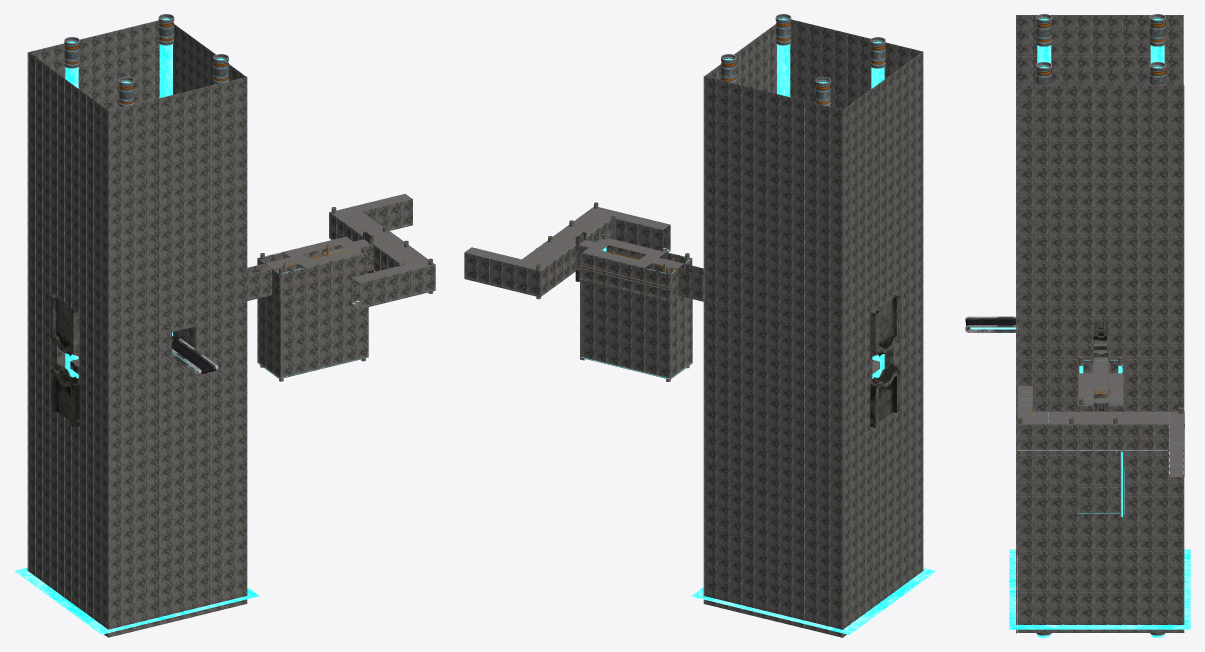
Rendered from Fabrica.fbx.
3 views of the same model, side by side, from view 1: azimuth 30°, elevation 25°; view 2: azimuth 150°, elevation 25°; view 3: azimuth 270°, elevation 25° (orthographic). The views are drawn at different scales.
Parts seen in each view (by area): view 1: pared.023, pared.022, pared.024, pared.009, techo, pared.025, pared.016, pared.007, pared.018, suelo.006, porton bajo.003, porton alto.003 (+4 smaller); view 2: pared.024, pared.022, pared.015, pared.023, techo, pared.025, pared.008, pared.006, pared.018, suelo.006, porton bajo.003, porton alto.003 (+3 smaller); view 3: pared.025, pared.022, techo, pared.003, pared.017, suelo.006, cinta.001, pared.023, pared.024, detalle tuberia.062, detalle tuberia.069, detalle tuberia.048 (+2 smaller).
Part boxes in pixels (x1,y1,x2,y2): pared.023: [108, 77, 247, 637]; pared.022: [28, 52, 108, 637]; pared.024: [27, 20, 159, 571]; pared.009: [280, 282, 368, 378]; techo: [266, 194, 434, 282]; pared.025: [173, 24, 246, 348]; pared.016: [279, 252, 368, 299]; pared.007: [359, 264, 435, 308]; pared.018: [258, 295, 280, 379]; suelo.006: [15, 568, 259, 634]; porton bajo.003: [50, 363, 79, 427]; porton alto.003: [50, 294, 79, 357]; pared.024: [704, 76, 842, 637]; pared.022: [842, 51, 923, 637]; pared.015: [581, 280, 670, 379]; pared.023: [790, 19, 922, 570]; techo: [464, 207, 683, 270]; pared.025: [703, 24, 776, 603]; pared.008: [581, 253, 670, 300]; pared.006: [464, 252, 539, 296]; pared.018: [670, 295, 692, 378]; suelo.006: [691, 568, 936, 634]; porton bajo.003: [870, 364, 899, 427]; porton alto.003: [870, 295, 899, 358]; pared.025: [1017, 85, 1184, 632]; pared.022: [1016, 15, 1182, 554]; techo: [1018, 360, 1183, 449]; pared.003: [1018, 424, 1168, 451]; pared.017: [1077, 451, 1120, 514]; suelo.006: [1009, 549, 1190, 629]; cinta.001: [965, 316, 1017, 332]; pared.023: [1016, 15, 1016, 633]; pared.024: [1183, 15, 1183, 633]; detalle tuberia.062: [1149, 14, 1165, 46]; detalle tuberia.069: [1036, 14, 1052, 46]; detalle tuberia.048: [1036, 62, 1052, 85].
Size of the model in its own units: 6161 by 8318 by 2985.
